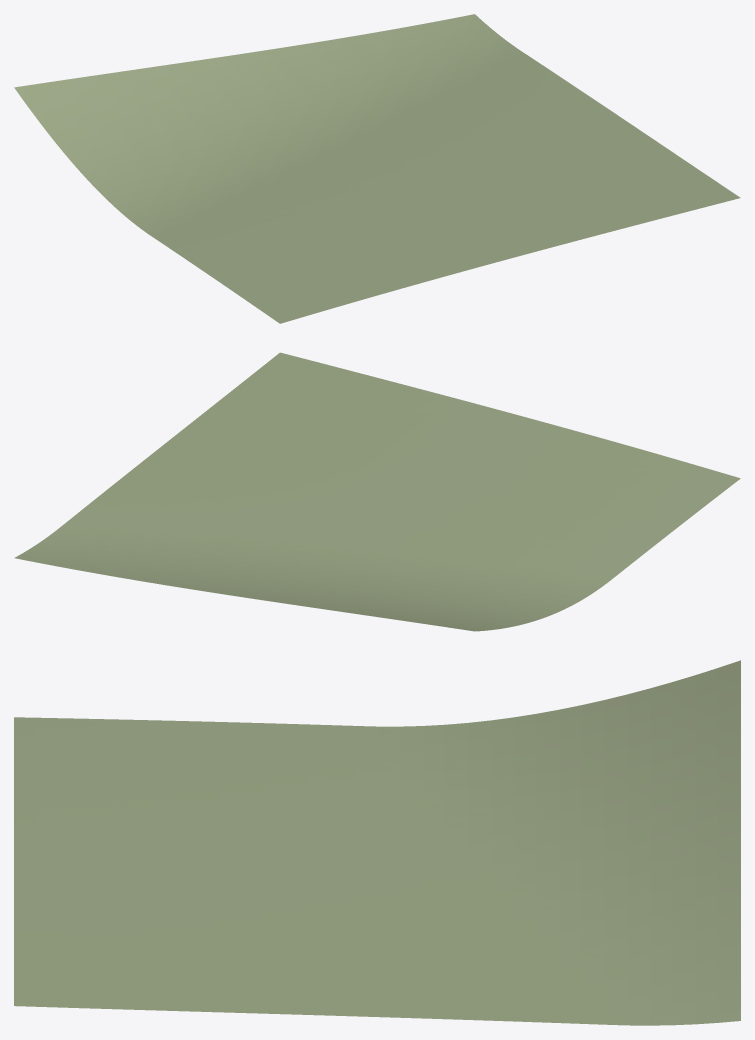
File: expanse-21-10.glb
3 renders of one model, top to bottom at view 1: azimuth 30°, elevation 25°; view 2: azimuth 150°, elevation 25°; view 3: azimuth 270°, elevation 25°, orthographic. The views are drawn at different scales.
Parts seen in each view (by area): view 1: expanse-21-10; view 2: expanse-21-10; view 3: expanse-21-10.
Boxes of the visible parts, box(x1,y1,x2,y2) form: expanse-21-10: box(14, 14, 740, 323); expanse-21-10: box(14, 352, 740, 631); expanse-21-10: box(14, 660, 740, 1025).
Size of the model in its own units: 256 by 25.75 by 256.
